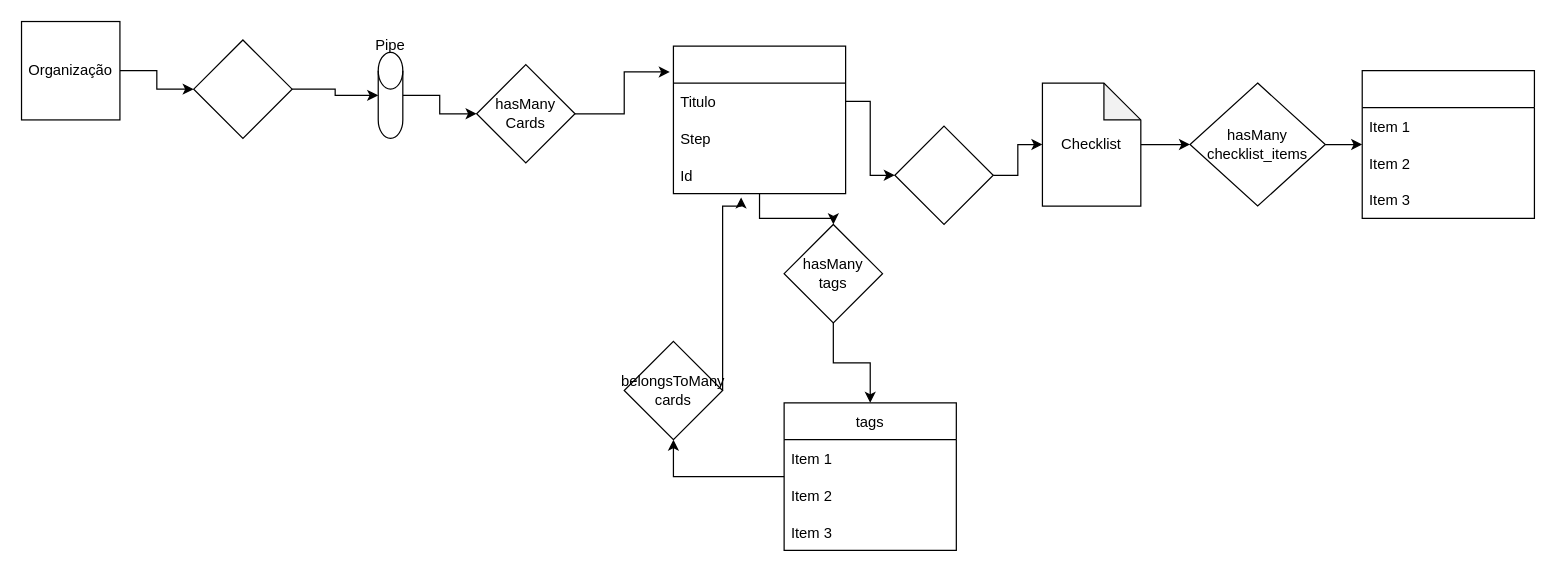
Image size: 1556x572. Some labels were removed from this diagram. Each missing label, with the box of its shape:
Card: (672, 45, 846, 194)
hasMany checklists: (894, 125, 993, 224)
hasMany Pipes: (192, 39, 292, 138)
Itens do checklist: (1361, 69, 1534, 218)
